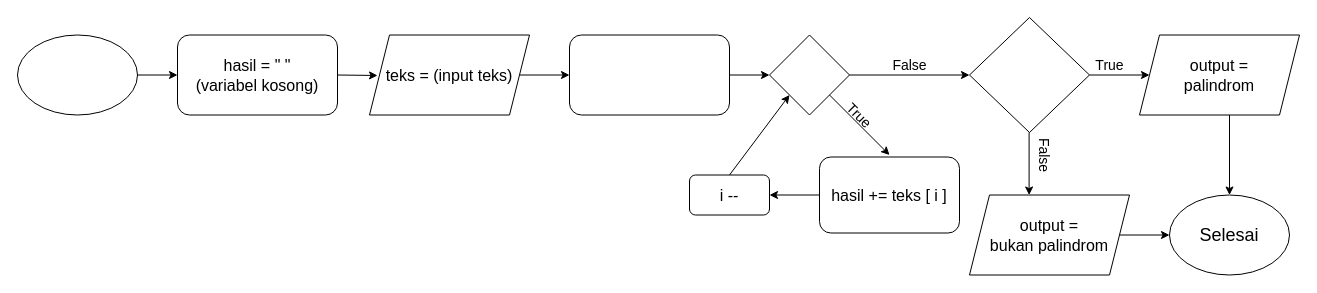
The diagram is 1317 pixels wide and 293 high, and some of its shapes have lost their labels. The centre of each missing label's shape, as x and y in pixels:
i = teks.length - 1: point 649,74
i >= 0: point 809,74
Mulai: point 77,74
teks == hasil: point 1029,74
